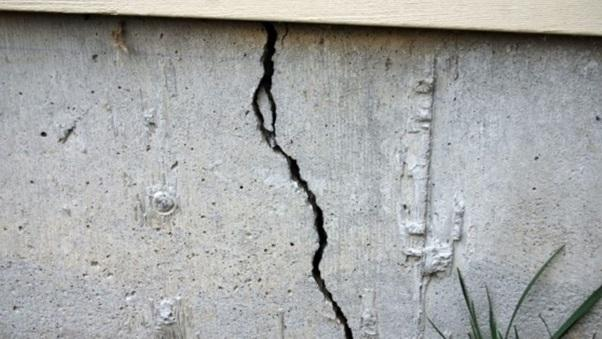Crack: (245, 15, 376, 339)
